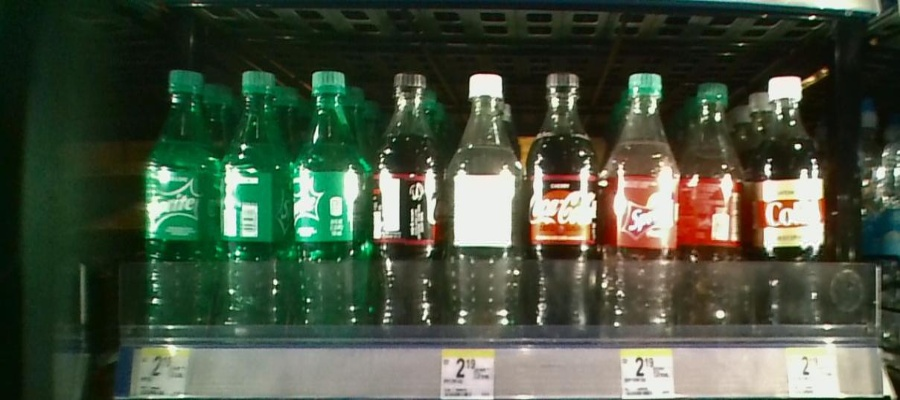bottle: (752, 58, 832, 347), (522, 58, 597, 348), (140, 73, 219, 342), (446, 64, 522, 342), (368, 64, 443, 340), (218, 69, 292, 346), (607, 58, 675, 344), (293, 66, 363, 342), (681, 60, 744, 350)
